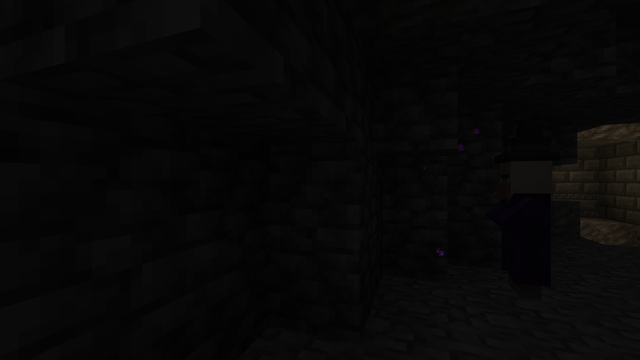sorcieres: (493, 154, 560, 304)
